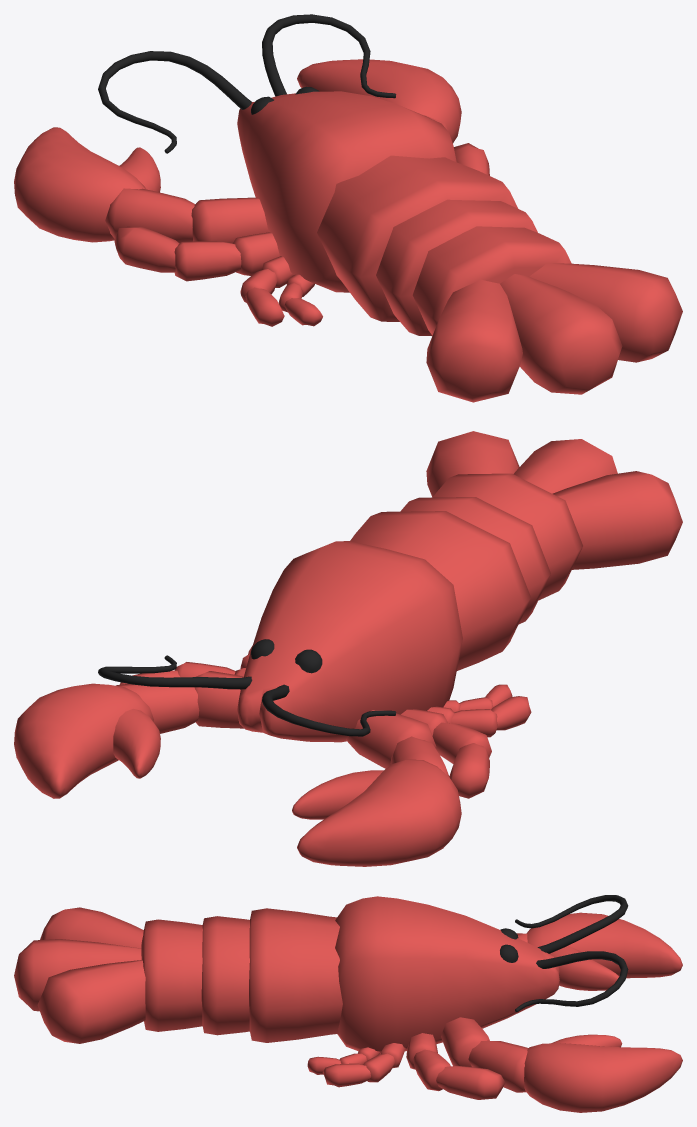
File: Lobster_1.fbx
3 views of the same model, one above another, from view 1: azimuth 30°, elevation 25°; view 2: azimuth 150°, elevation 25°; view 3: azimuth 270°, elevation 25° (orthographic). The views are drawn at different scales.
Visible parts, largest first — view 1: Lobster_1; view 2: Lobster_1; view 3: Lobster_1.
Boxes of the visible parts, <box> form: Lobster_1: <box>14,14,682,402</box>; Lobster_1: <box>14,431,682,866</box>; Lobster_1: <box>14,895,682,1112</box>.
Size of the model in its own units: 38.24 by 13.76 by 64.46.
